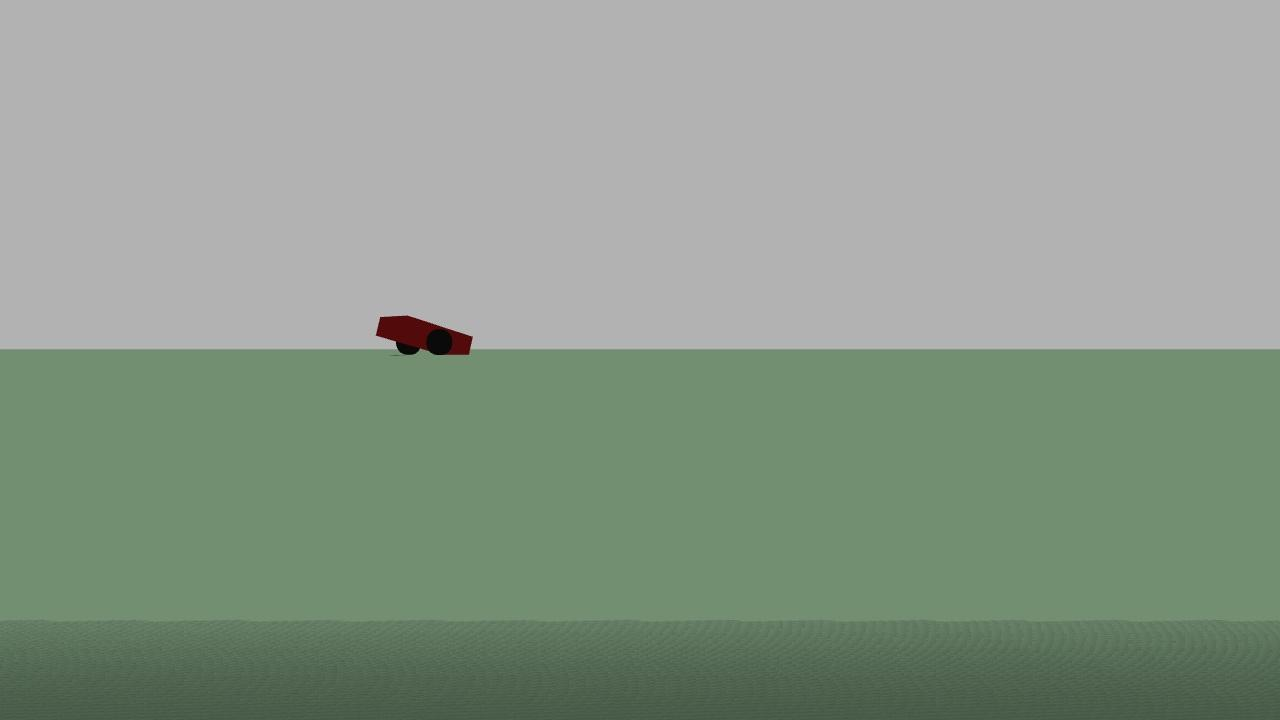ground_vehicle: (369, 292, 477, 366)
